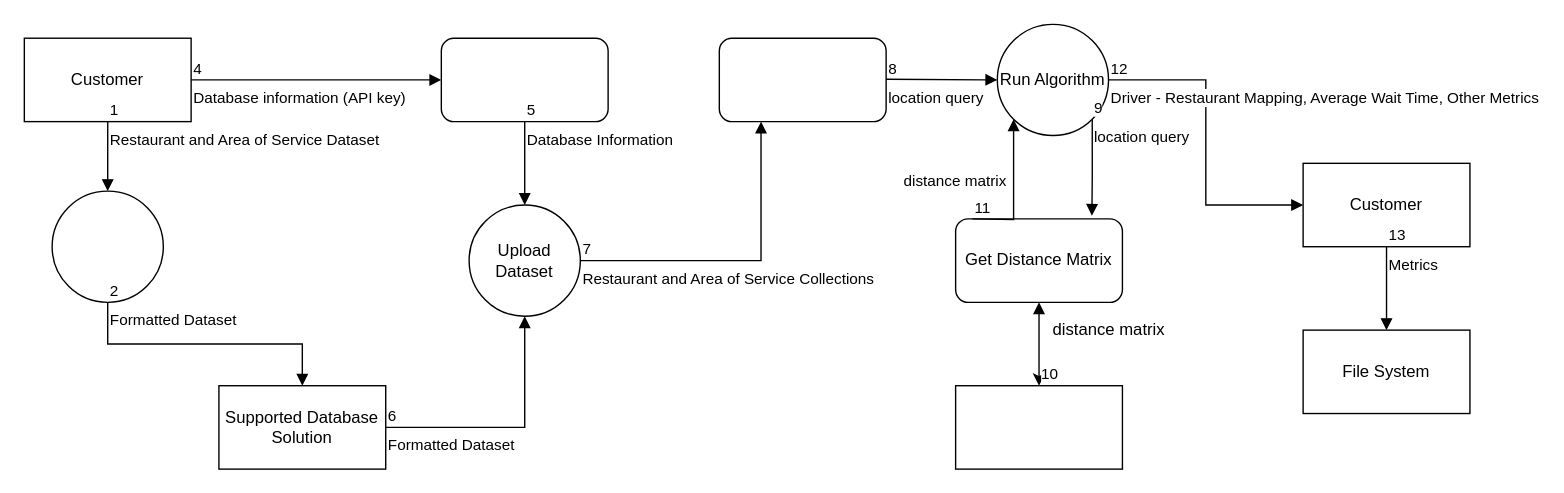
Image size: 1564x493. Some labels were removed from this diagram. The shapes that lost their labels are listed below. From the top down, each one's centre as x and y in pixels, then its label:
At [524,79]: "Connect to Database".
At [802,79]: "Parse Dataset".
At [107,246]: "Format Dataset".
At [1038,426]: "Open Route Service".
